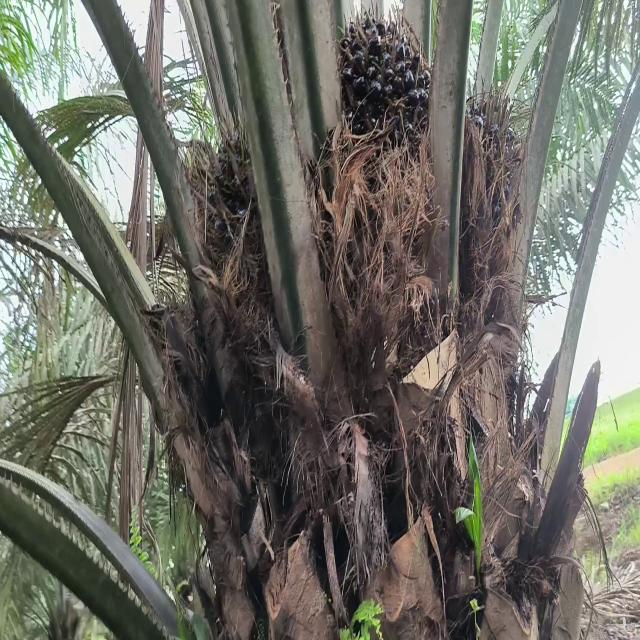palm-oil: (337, 14, 437, 198)
